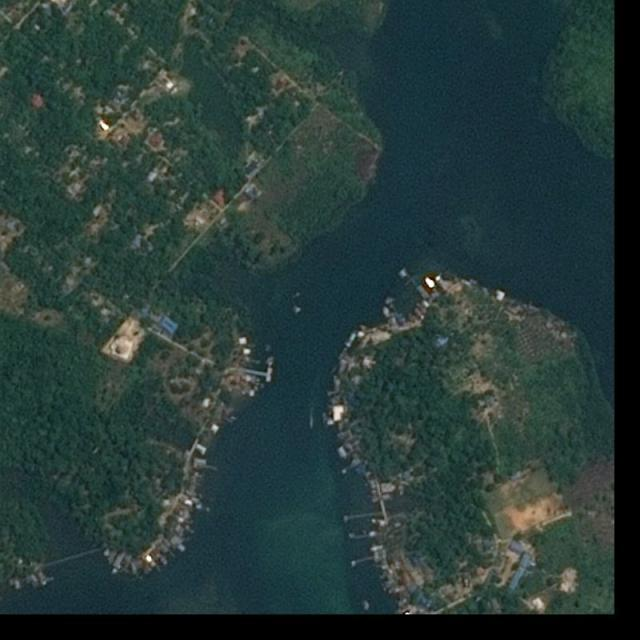ship: (310, 422, 315, 430)
